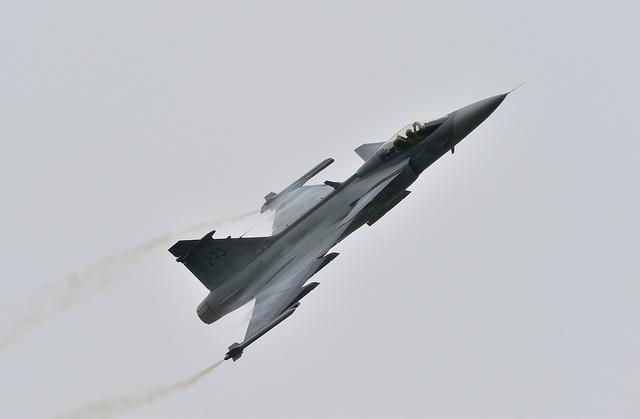airplane: (167, 77, 526, 365)
